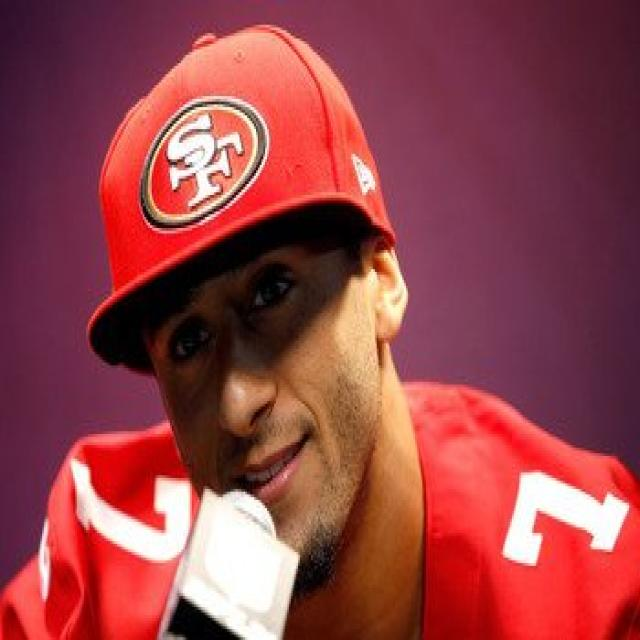3_gorra: (89, 25, 398, 366)
